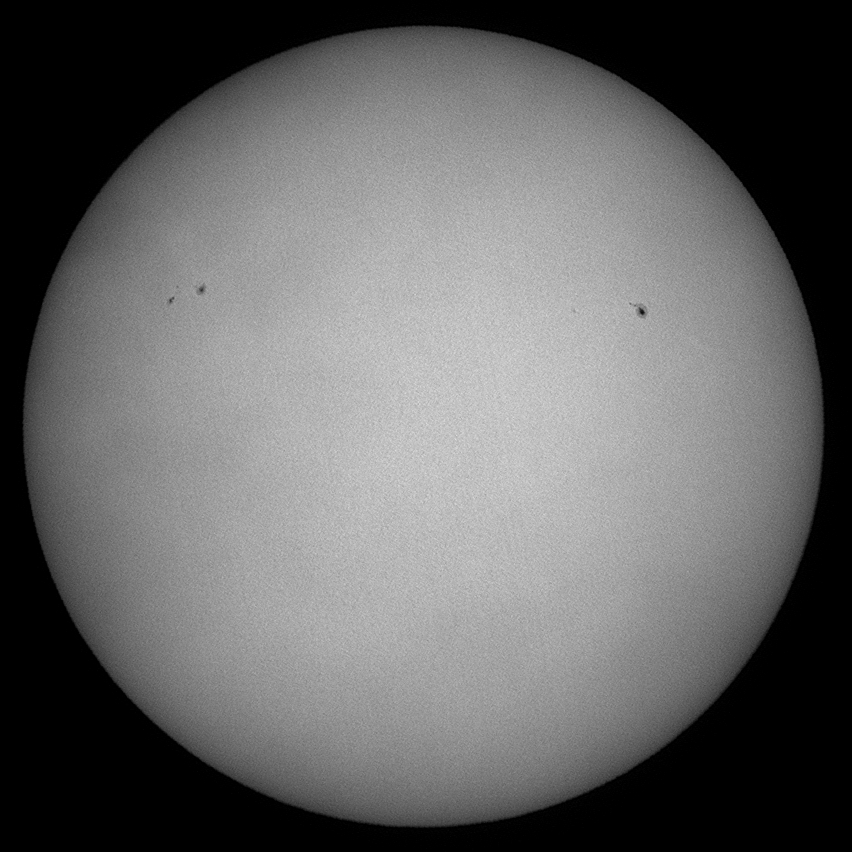sunspot: (626, 297, 652, 321), (192, 282, 212, 297), (162, 291, 179, 306)
